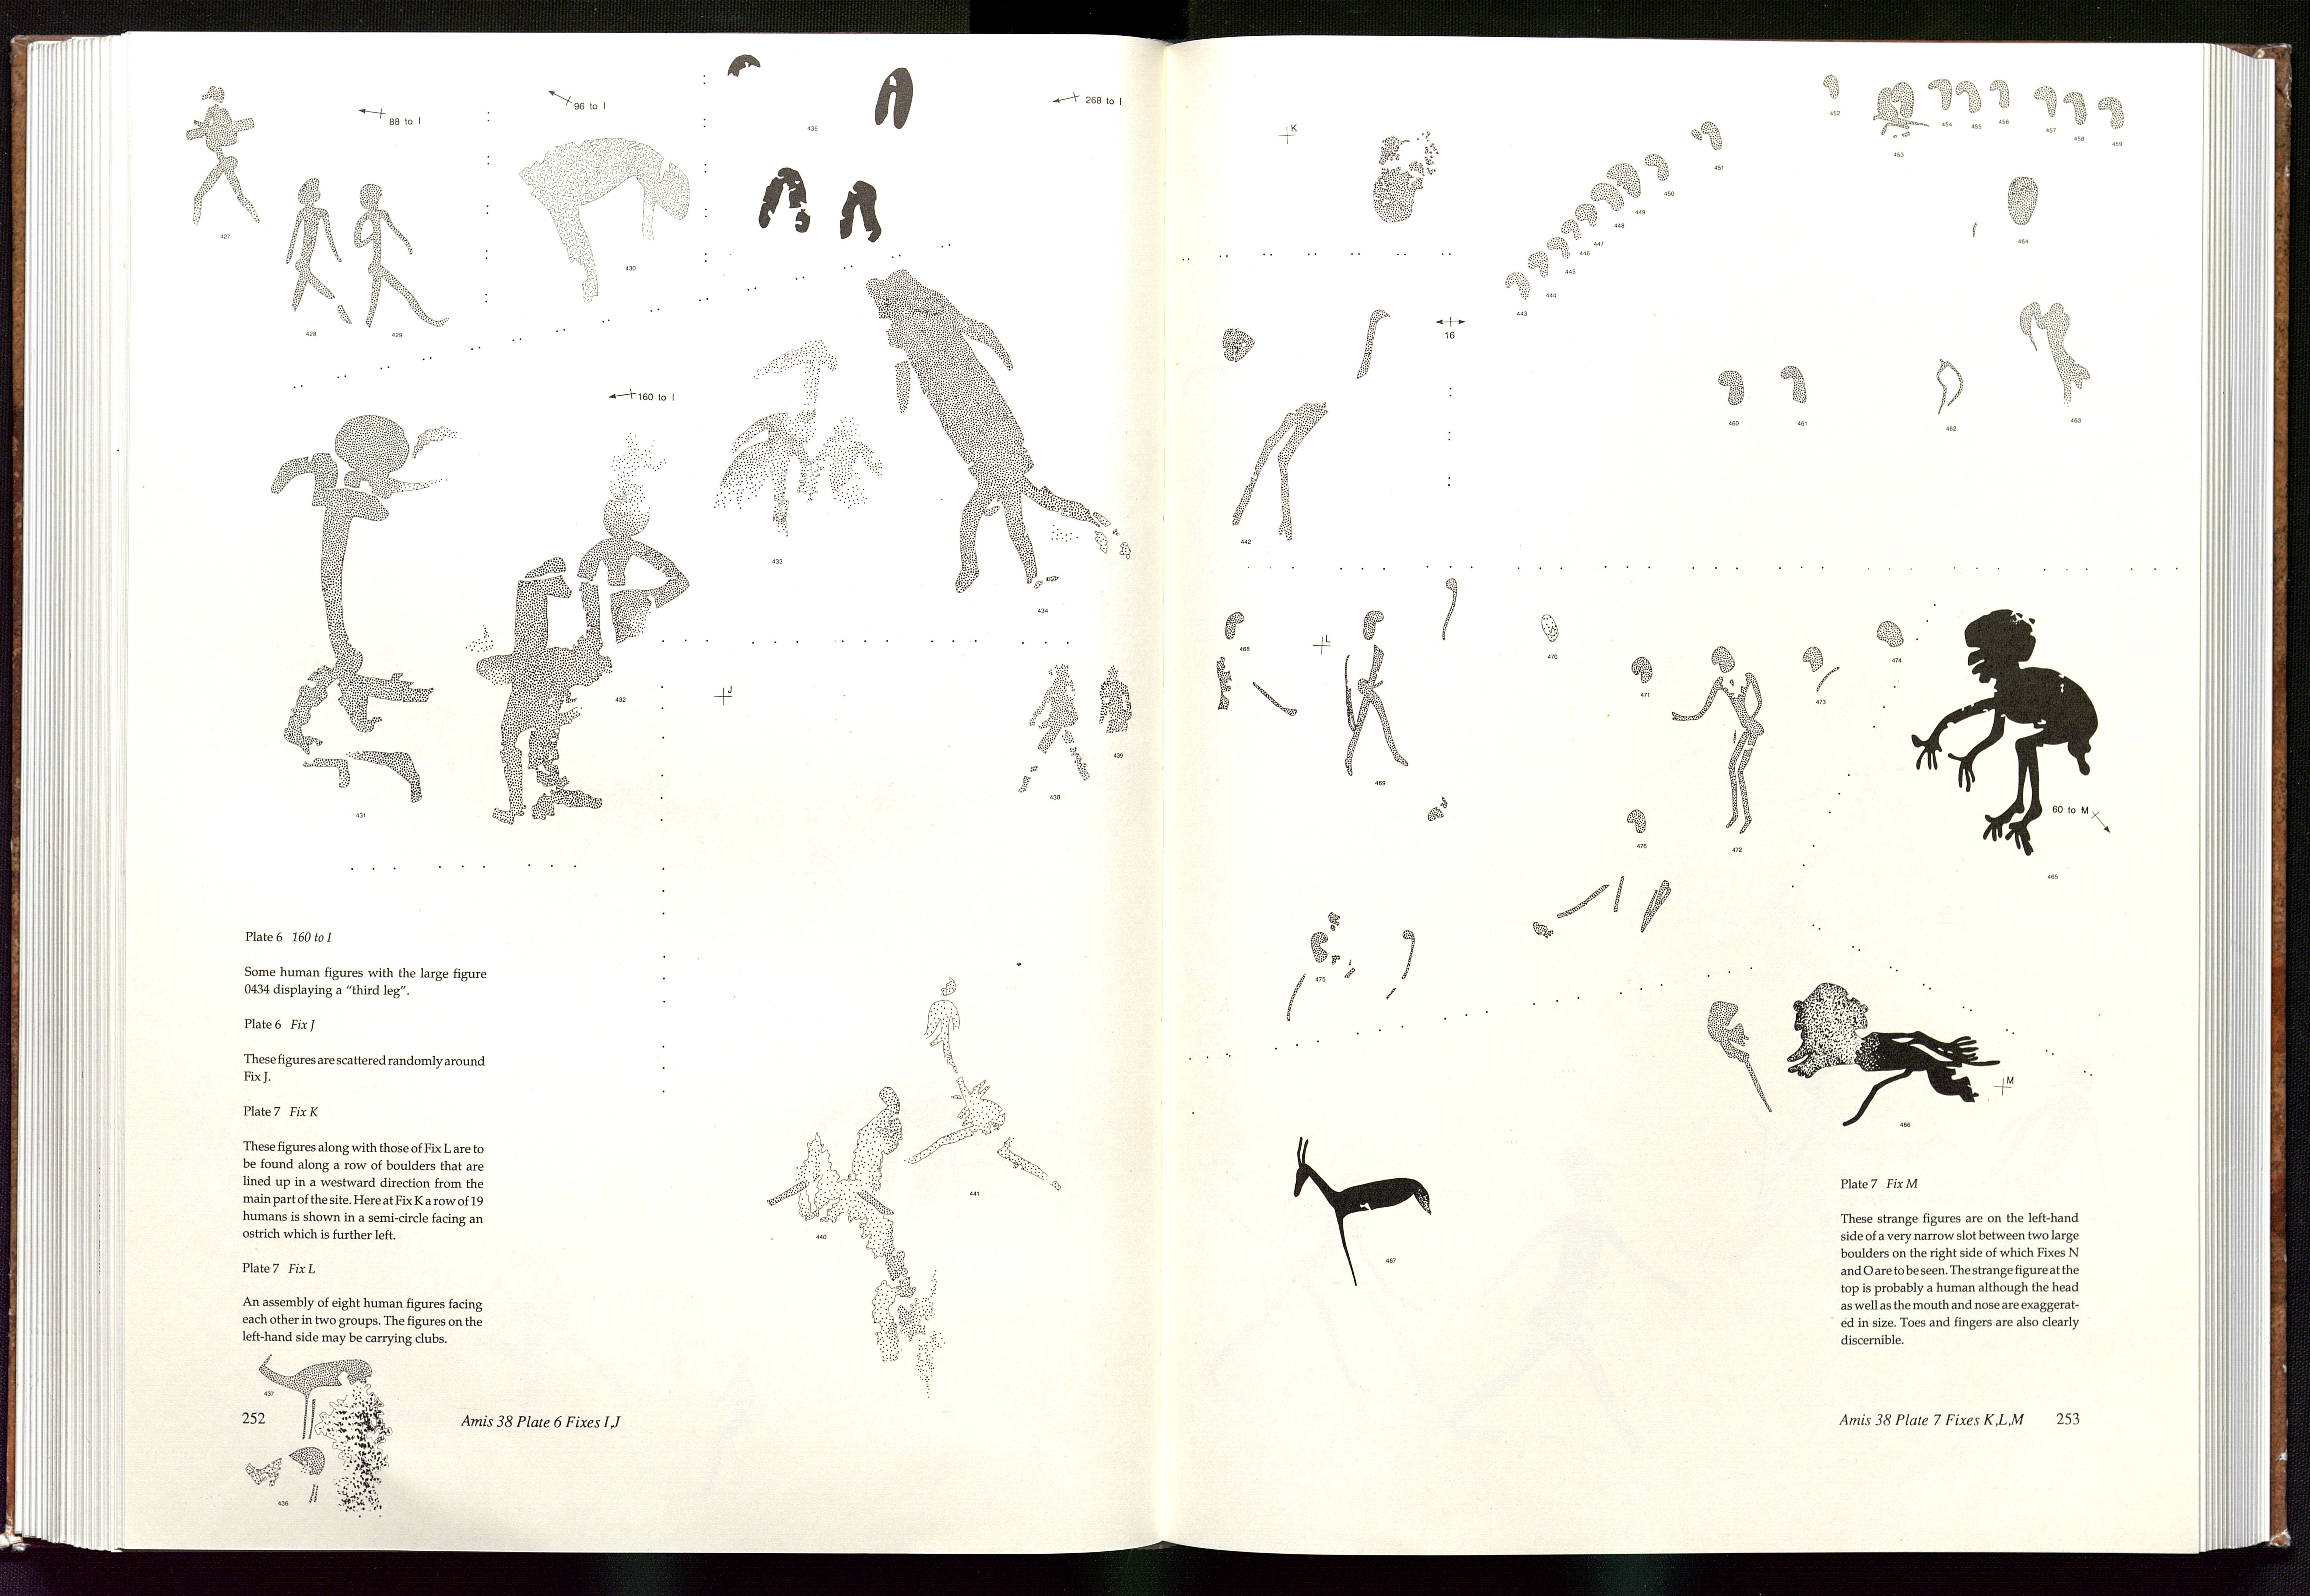animal: (1286, 1123, 1429, 1305)
human: (257, 401, 449, 799), (1905, 603, 2104, 865), (1674, 642, 1777, 838), (343, 175, 456, 342), (179, 72, 272, 259), (1333, 600, 1411, 789), (284, 171, 358, 342)
